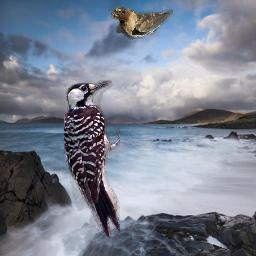Swallow: (111, 6, 174, 40)
Woodpecker: (64, 80, 120, 238)
